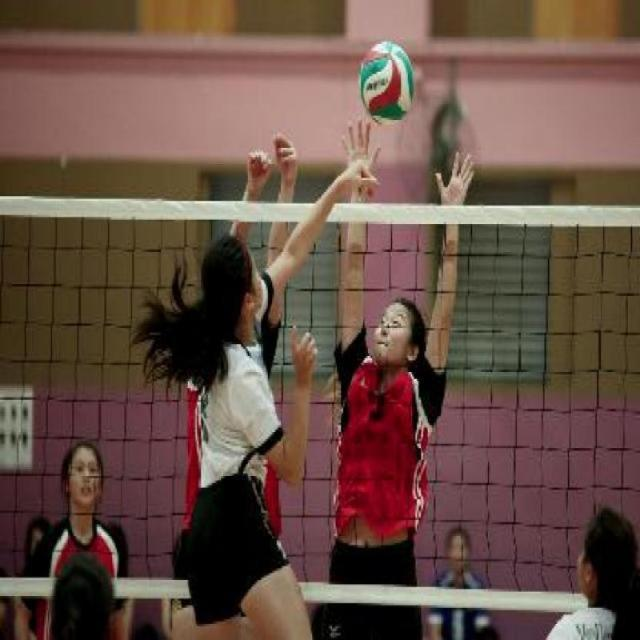volleyball: (353, 35, 418, 132)
